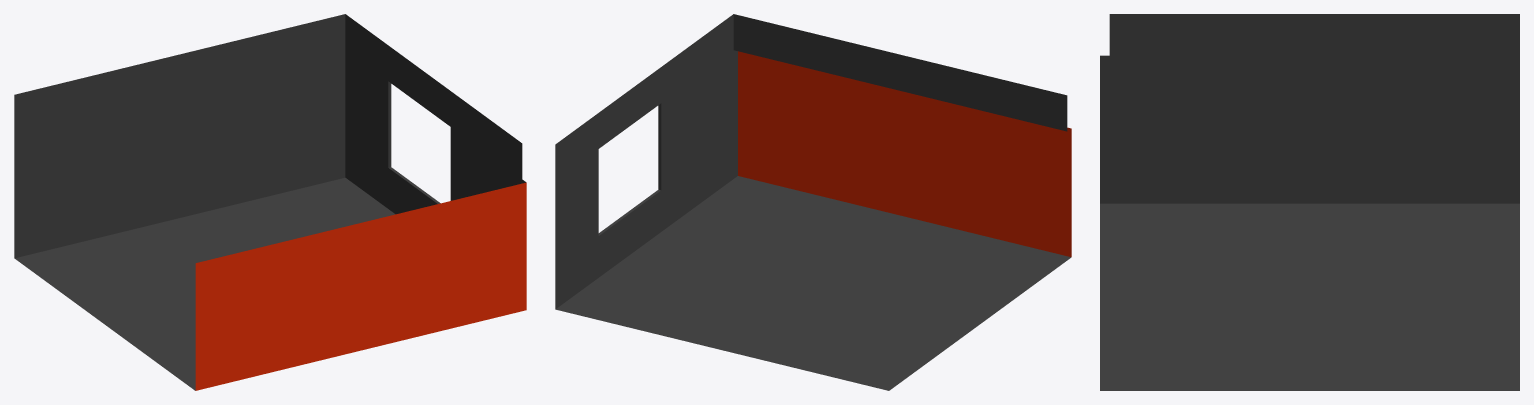
The model's file is Room 2.fbx.
3 views of the same model, side by side, from view 1: azimuth 30°, elevation 25°; view 2: azimuth 150°, elevation 25°; view 3: azimuth 270°, elevation 25° (orthographic). The views are drawn at different scales.
Parts seen in each view (by area): view 1: Room; view 2: Room; view 3: Room.
Part boxes in pixels (x1,y1,x2,y2): Room: [14, 14, 526, 390]; Room: [555, 14, 1071, 390]; Room: [1100, 14, 1519, 390].
Bounding box in the file's own units: 590 × 276 × 554.
